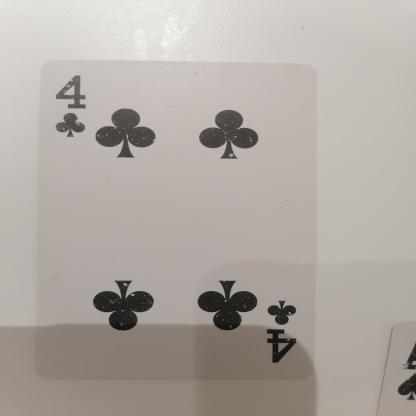4C: (260, 289, 312, 372), (46, 68, 96, 150)
